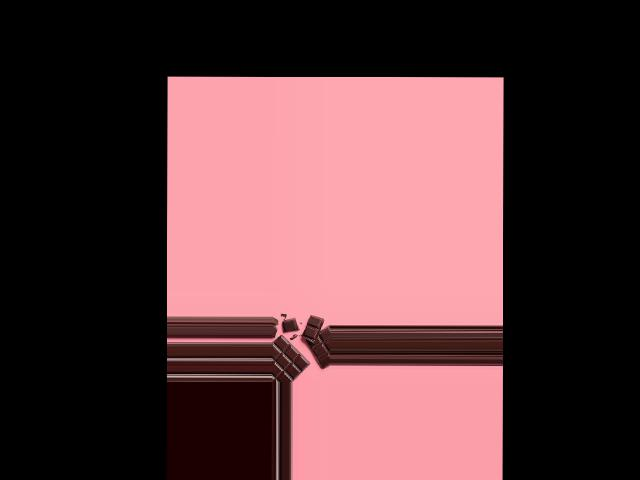chocolate: (272, 319, 326, 383)
